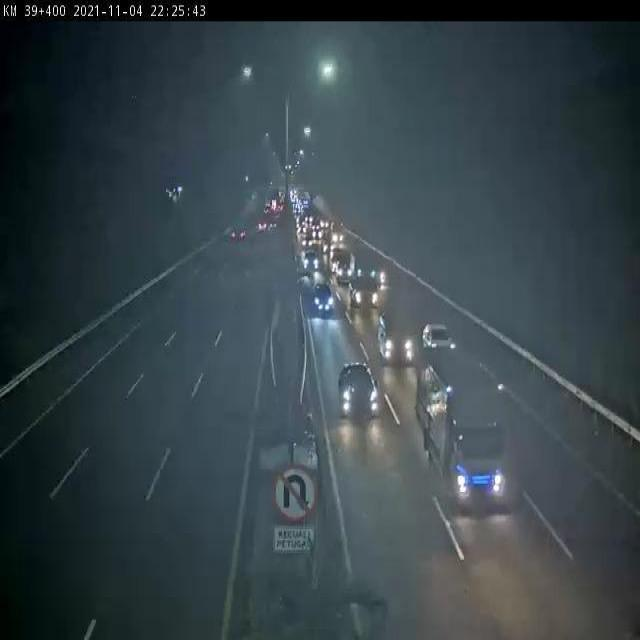car: (338, 363, 382, 421), (378, 303, 416, 367), (422, 324, 460, 363), (311, 280, 340, 320), (331, 255, 359, 287), (299, 247, 325, 281), (228, 224, 249, 252)
truck: (418, 359, 513, 508), (348, 269, 383, 316)
